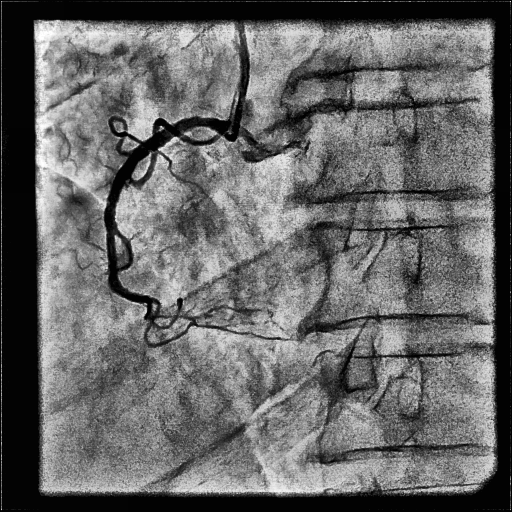rca: (105, 117, 225, 303)
